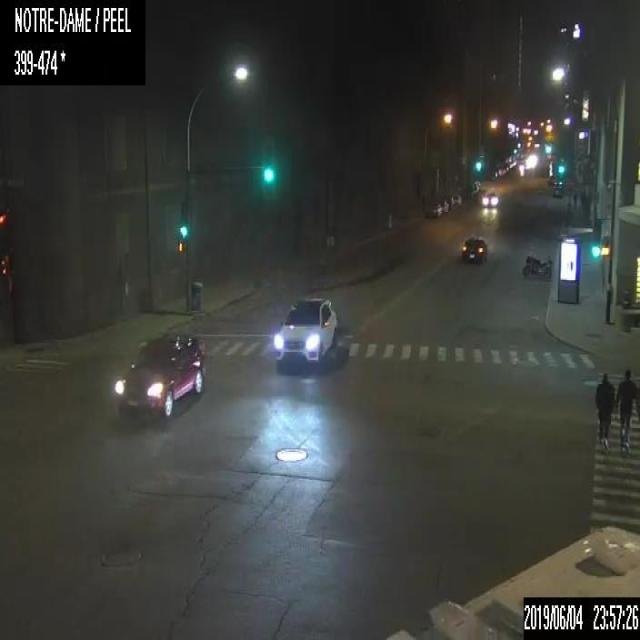bus: (385, 522, 639, 638)
pedestrian: (614, 364, 639, 451), (594, 369, 614, 452)
vehicle: (111, 330, 203, 414), (274, 295, 337, 361), (459, 234, 487, 266), (521, 253, 551, 276), (480, 188, 496, 205), (552, 179, 563, 199), (467, 179, 479, 196), (430, 201, 442, 217), (448, 192, 459, 208), (440, 200, 448, 212)
